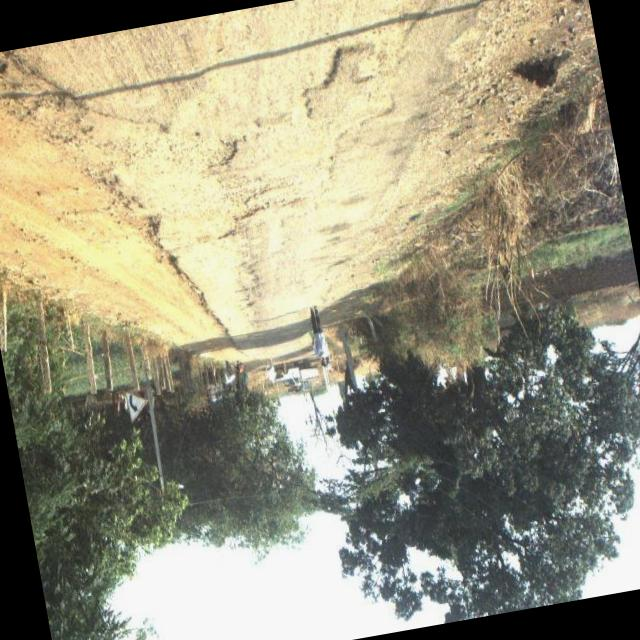pothole: (275, 0, 485, 146), (275, 137, 411, 240), (170, 100, 276, 214), (13, 39, 122, 143), (228, 208, 300, 349)
